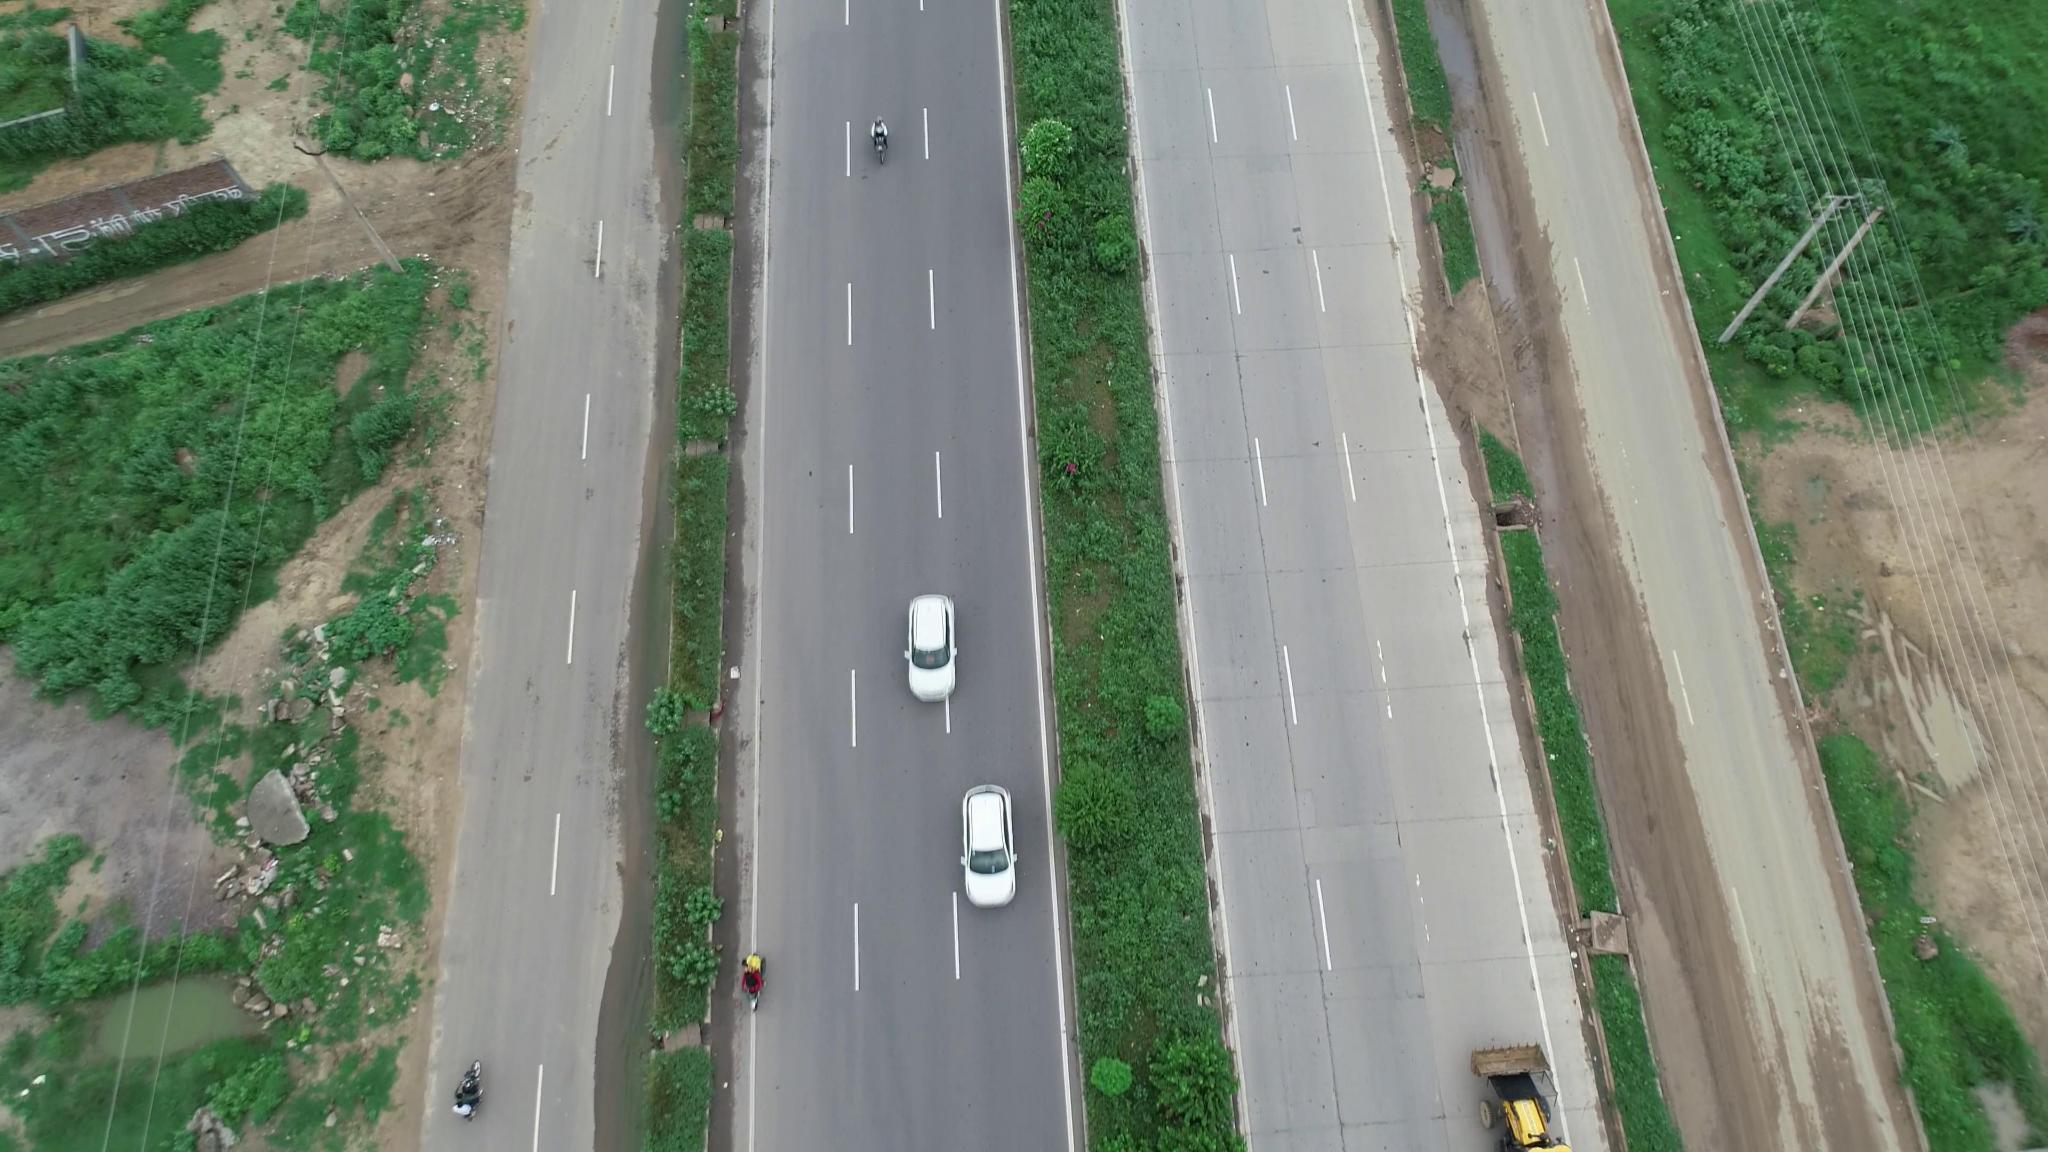Muddy_road: (1611, 812, 1777, 1077), (1559, 505, 1701, 788)
